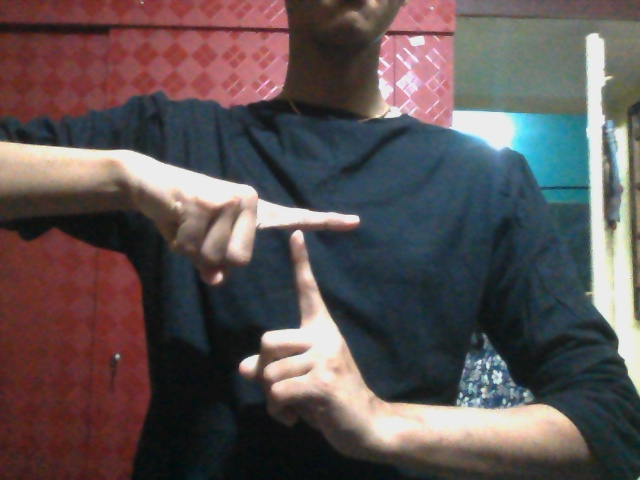T: (151, 158, 361, 461)
